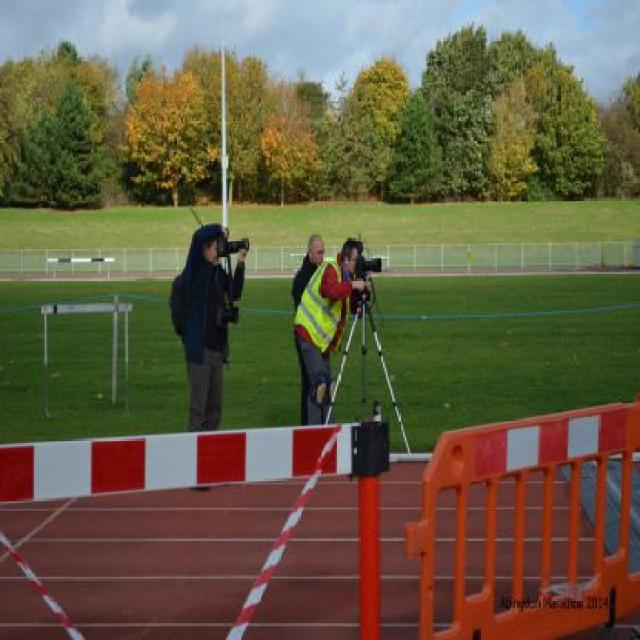Person: (293, 235, 372, 423), (177, 210, 238, 447), (289, 233, 325, 424)
